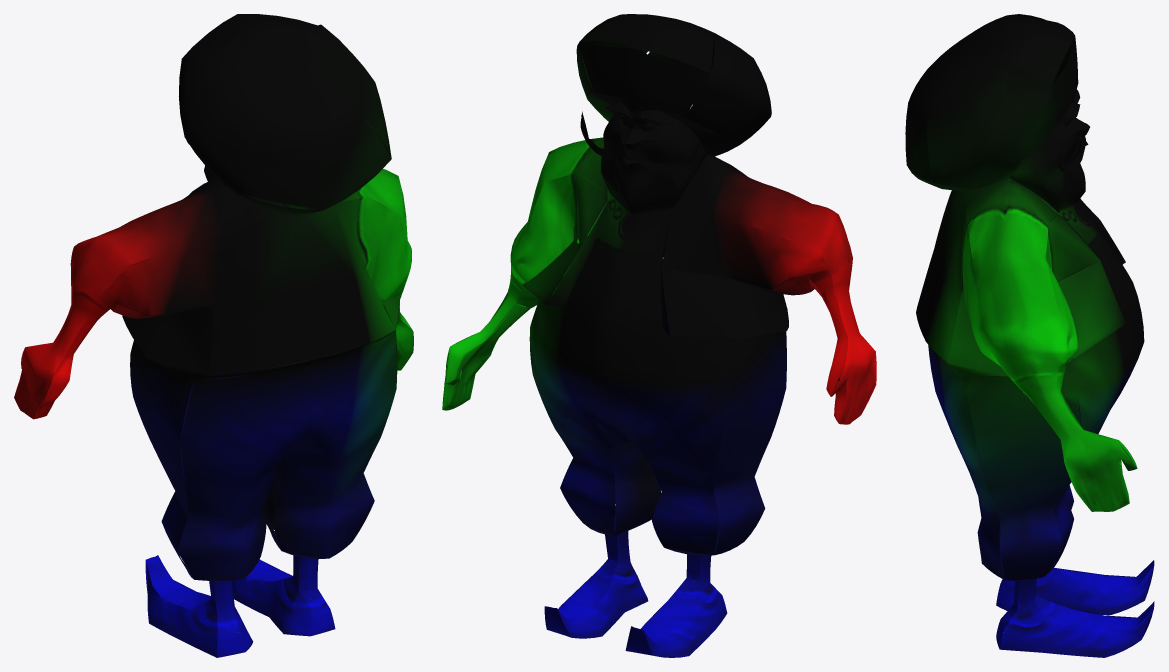
File: sultan.glb
The picture shows the model from 3 angles, left to right: view 1: azimuth 30°, elevation 25°; view 2: azimuth 150°, elevation 25°; view 3: azimuth 270°, elevation 25°; orthographic projection. The views are drawn at different scales.
Visible parts, largest first — view 1: sultan; view 2: sultan; view 3: sultan.
Part boxes in pixels (x1=…): sultan: x1=14, y1=14, x2=413, y2=657; sultan: x1=442, y1=14, x2=876, y2=657; sultan: x1=905, y1=14, x2=1154, y2=657.
Size of the model in its own units: 1.32 by 1.92 by 0.7264.
Materials: 1 (1 with a texture image).
